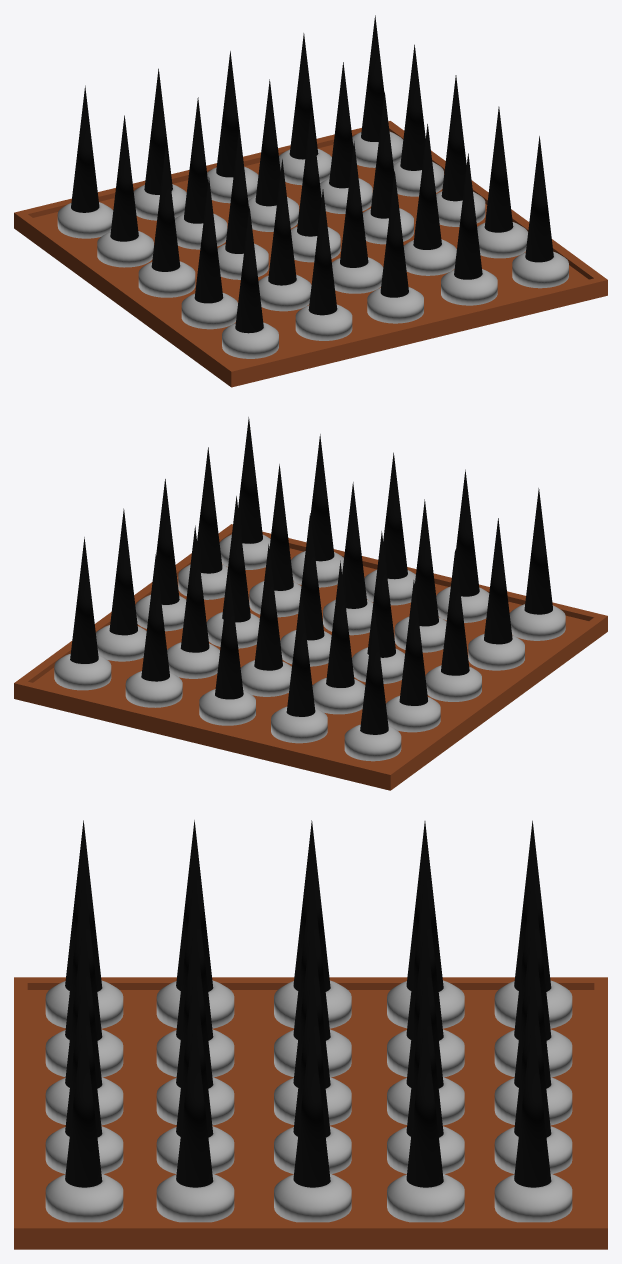
File: spikes.fbx
3 renders of one model, top to bottom at view 1: azimuth 30°, elevation 25°; view 2: azimuth 150°, elevation 25°; view 3: azimuth 270°, elevation 25°, orthographic. The views are drawn at different scales.
Visible parts, largest first — view 1: Cylinder.021; view 2: Cylinder.021; view 3: Cylinder.021.
Boxes of the visible parts, bbox=[...] form: Cylinder.021: bbox=[14, 15, 607, 387]; Cylinder.021: bbox=[14, 417, 607, 790]; Cylinder.021: bbox=[14, 820, 607, 1249].
Bounding box in the file's own units: 1000 × 388 × 1000.
